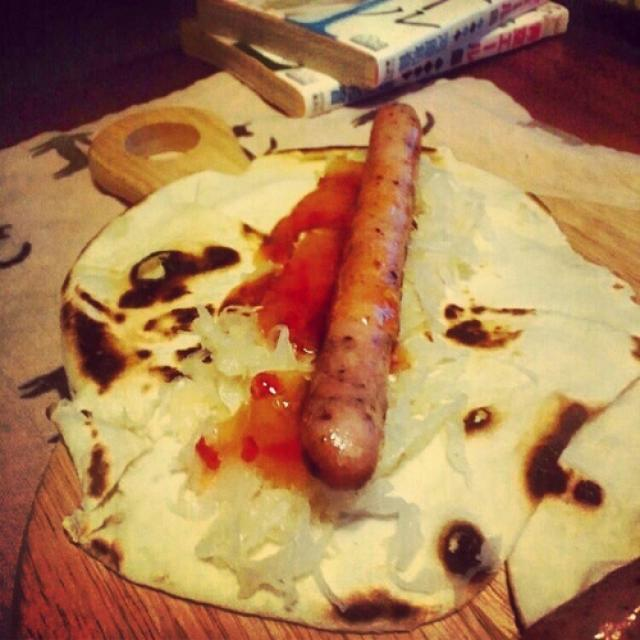面包点心: (72, 122, 617, 594)
